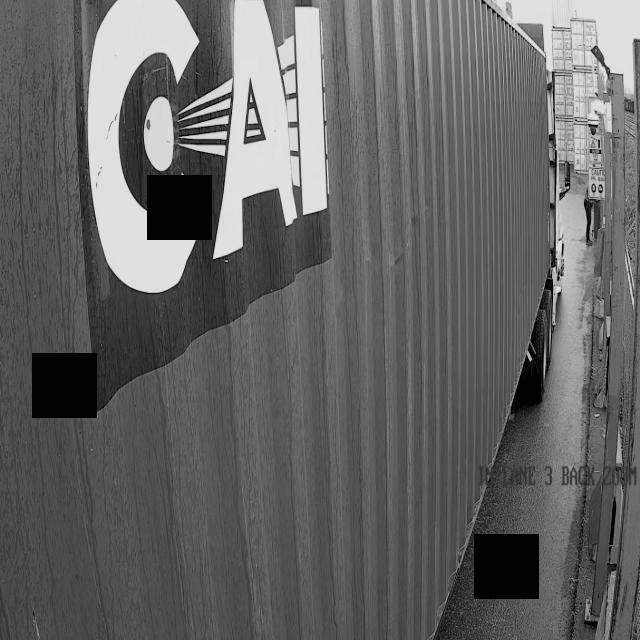container_company_logo: (62, 8, 410, 330)
truck_with_container: (0, 0, 561, 640)
